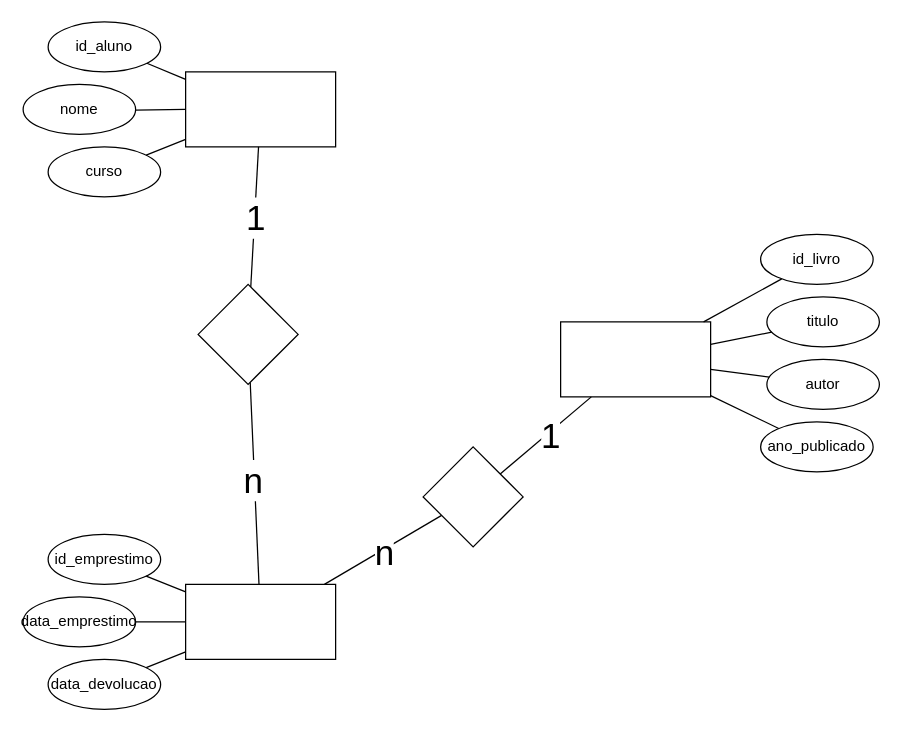
Image size: 901x731. Some labels were removed from this diagram. Each missing label, with the box of its shape:
Aluno: (184, 71, 336, 147)
Empréstimo: (184, 583, 336, 659)
Livro: (559, 321, 711, 397)
